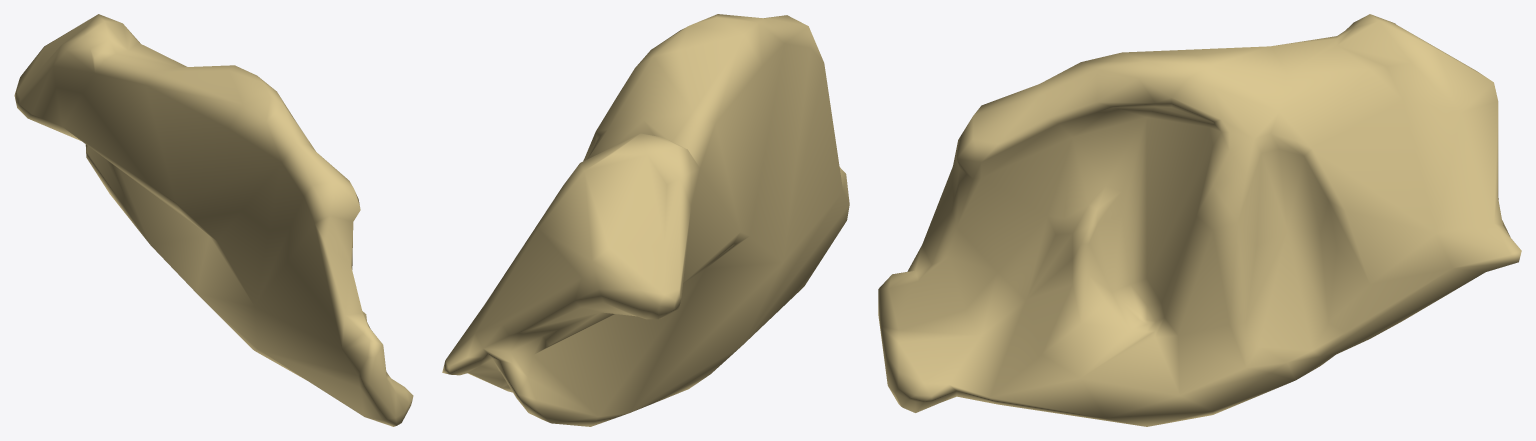
3 views of the same model, side by side, from view 1: azimuth 30°, elevation 25°; view 2: azimuth 150°, elevation 25°; view 3: azimuth 270°, elevation 25° (orthographic). The views are drawn at different scales.
Parts seen in each view (by area): view 1: 右侧泪骨; view 2: 右侧泪骨; view 3: 右侧泪骨.
Boxes of the visible parts, x1,y1,x2,y2 form: 右侧泪骨: (14,14,413,426); 右侧泪骨: (442,14,849,426); 右侧泪骨: (878,14,1521,426).
Size of the model in its own units: 0.0157 by 0.0217 by 0.037.
